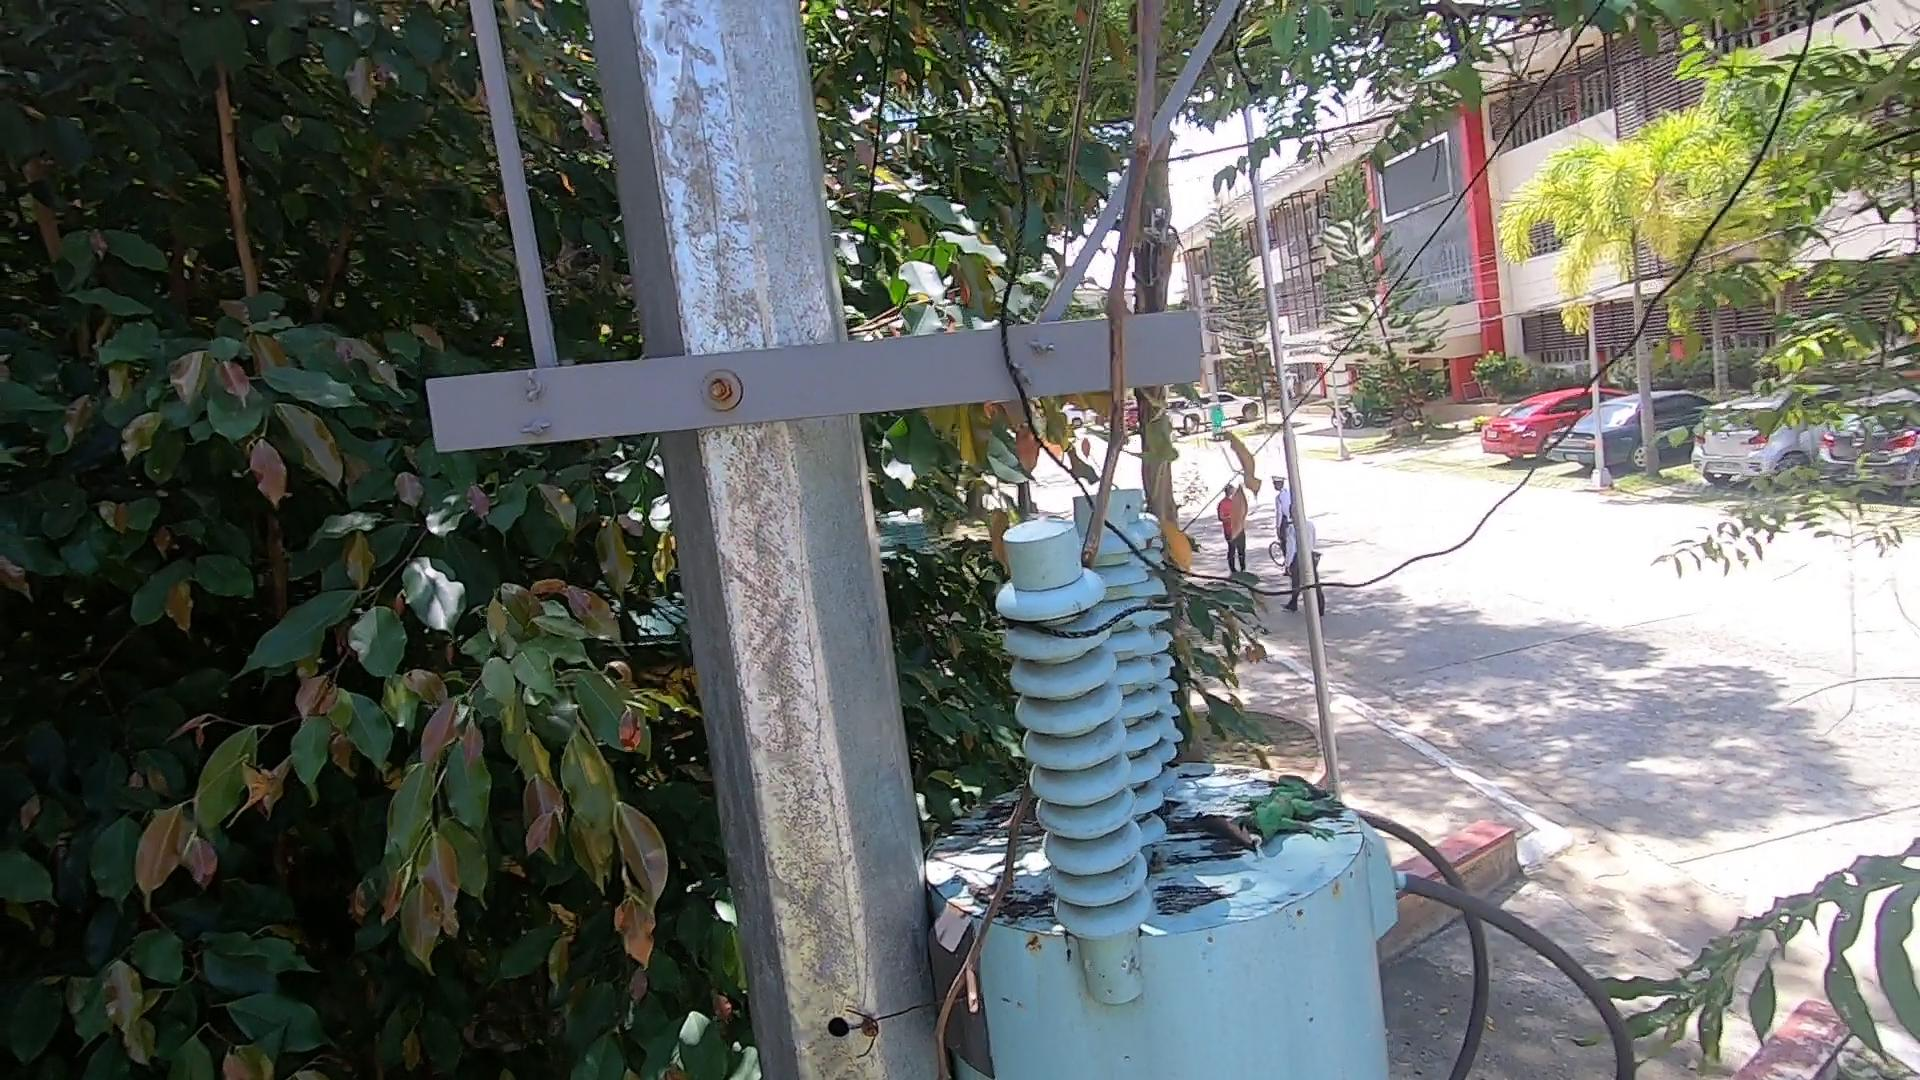leaf: (1170, 803, 1267, 868), (969, 880, 1054, 928), (1142, 516, 1201, 575)
tree branch: (794, 3, 1298, 1080), (977, 803, 1048, 847)
